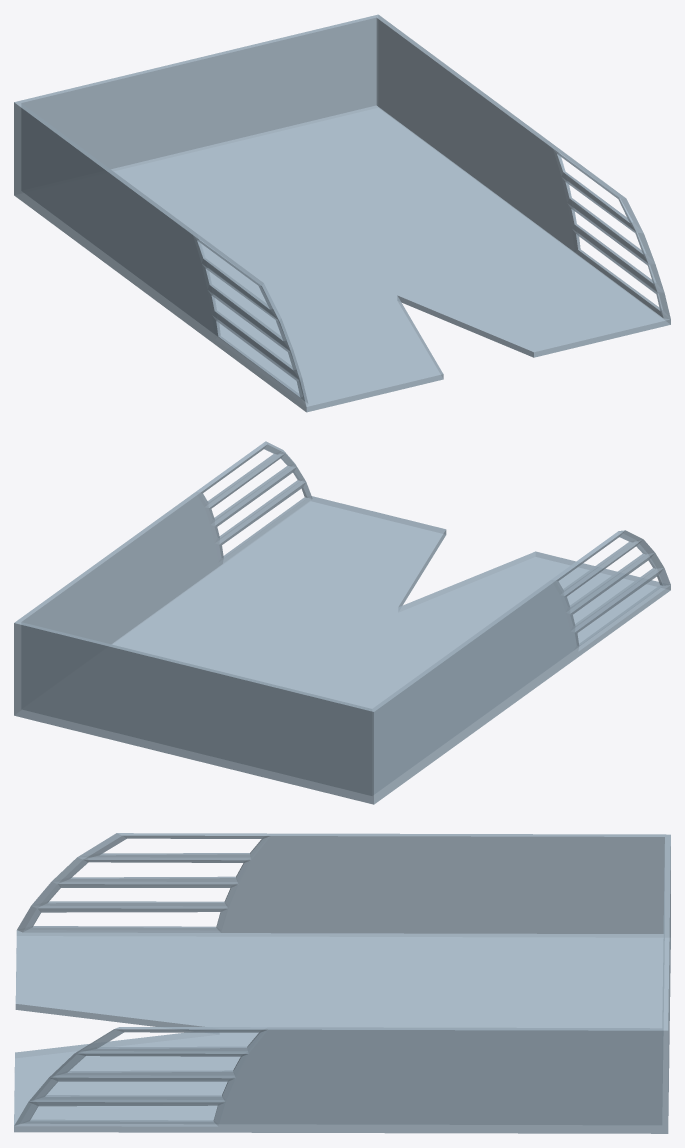
Rendered from sweethome3d-scopia-letter-tray-97.glb.
The picture shows the model from 3 angles, top to bottom: view 1: azimuth 30°, elevation 25°; view 2: azimuth 150°, elevation 25°; view 3: azimuth 270°, elevation 25°; orthographic projection. The views are drawn at different scales.
Visible parts, largest first — view 1: 1_1; view 2: 1_1; view 3: 1_1.
Part boxes in pixels (x1,y1,x2,y2): 1_1: (14,14,670,412); 1_1: (14,441,670,804); 1_1: (14,833,670,1133).
Size of the model in its own units: 26.93 by 6.55 by 37.8.
